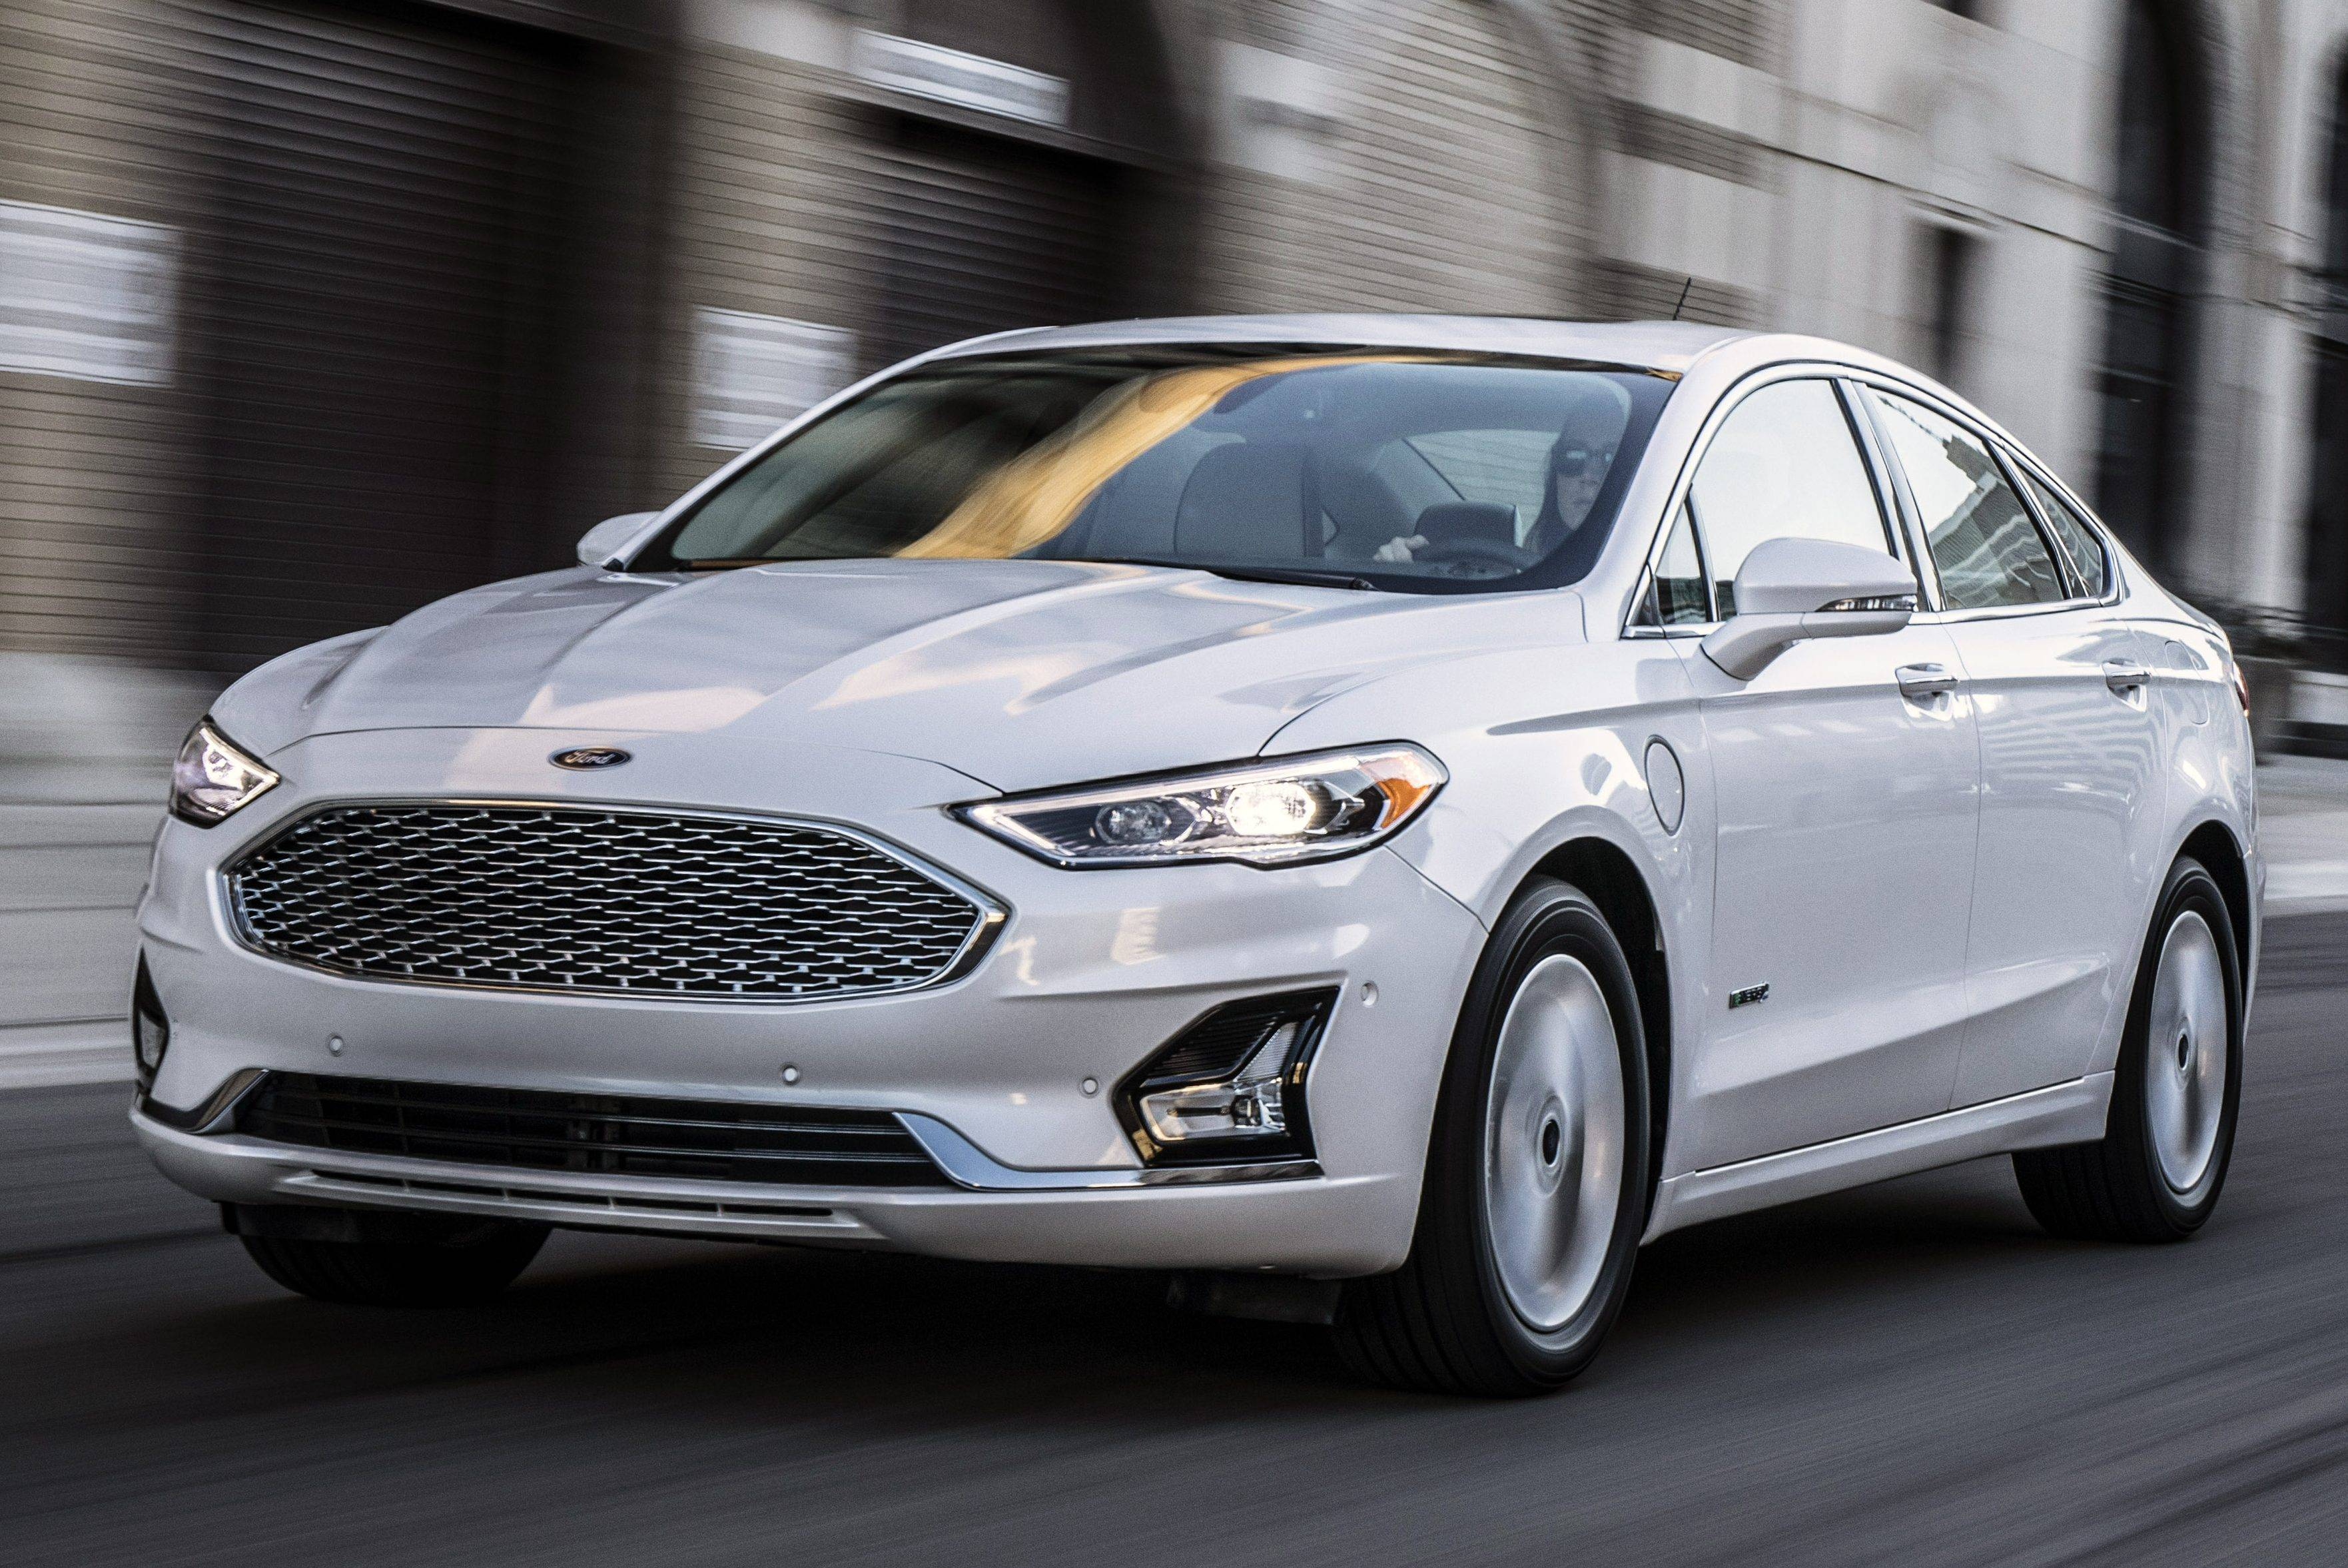Carro: (117, 275, 2252, 1423)
